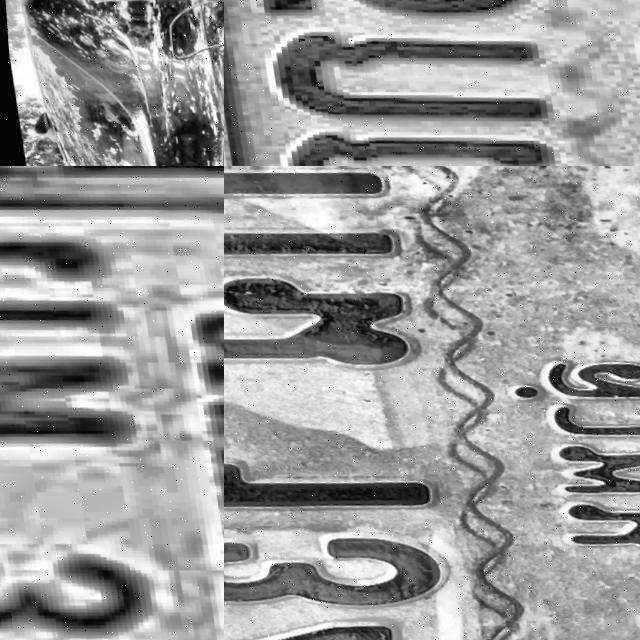license-plate: (224, 166, 640, 640), (0, 166, 224, 640), (224, 0, 640, 166)
